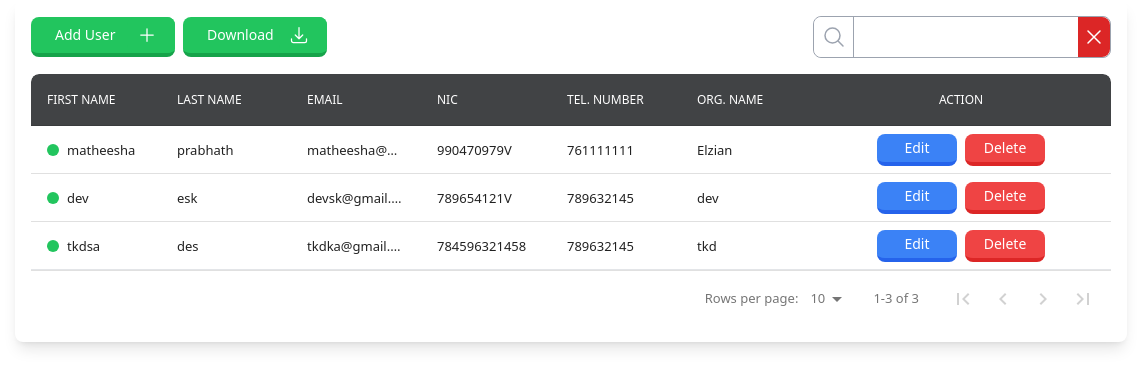
it: ManageUsers Component › displays a no results message when the search yields no matches
# Perform a search that will yield no results
Type "nonexistentuser" into the field at [966, 37], box [854,17,1078,57]
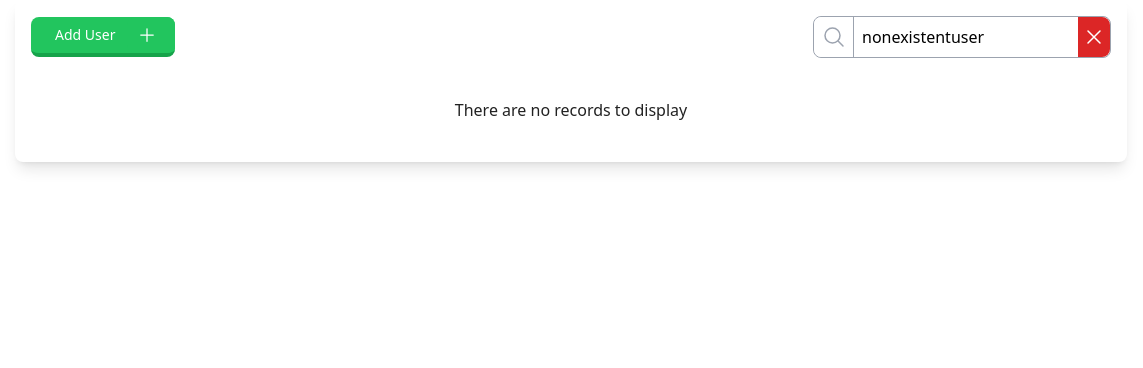
Result: the text "There are no records to display" is shown at [455,99,687,121]
